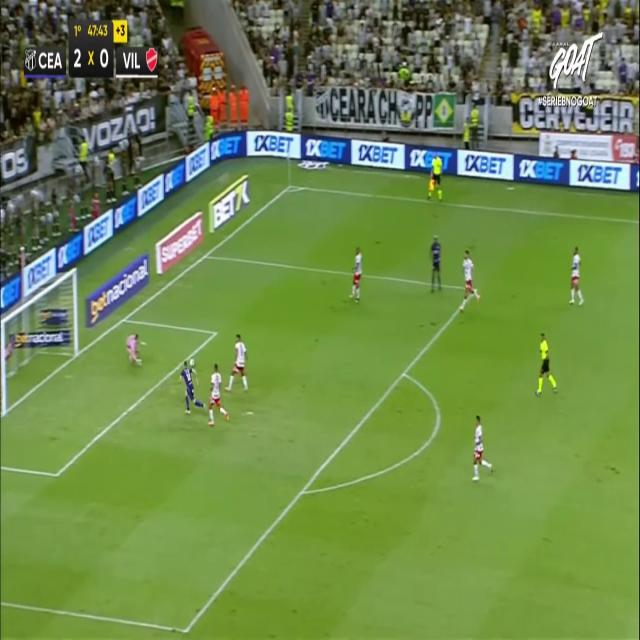ball: (189, 358, 197, 370)
goalkeeper: (126, 333, 146, 367)
player: (471, 413, 493, 481), (179, 358, 205, 415), (459, 248, 481, 312), (224, 333, 248, 391), (207, 362, 229, 425), (568, 245, 584, 305), (349, 245, 363, 303), (430, 234, 442, 292)
referee: (535, 332, 558, 396), (427, 152, 443, 200)
